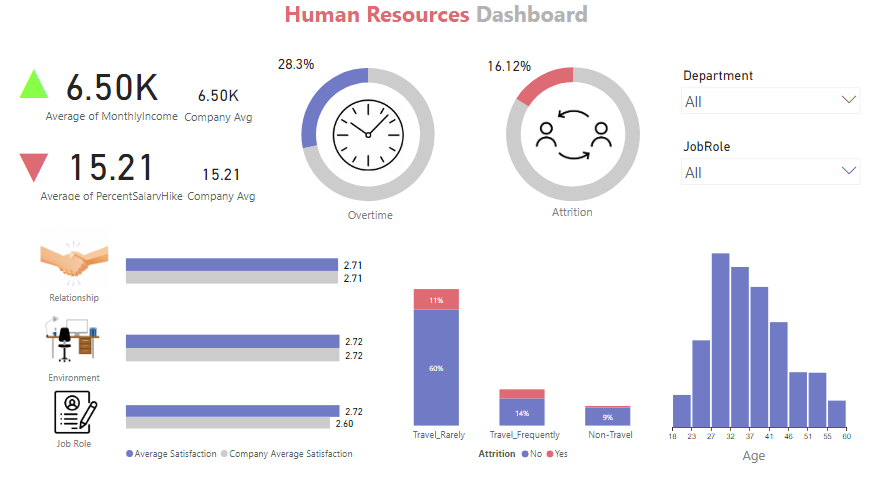

The dashboard page shown, as its layout file describes it:
{"tool":"powerbi","page":{"name":"Page 1","canvas":[1280,720],"ordinal":0},"visuals":[{"type":"image","box":[59,333.3,112.5,108.2],"z":0,"group":"g1"},{"type":"card","fields":{"Values":["Avg(HR-Employee-Attrition.MonthlyIncome)"]},"box":[30.3,51.9,279.9,173.1],"z":0},{"type":"textbox","box":[30.3,425.8,174.6,44.7],"z":1000,"group":"g1"},{"type":"slicer","fields":{"Values":["HR-Employee-Attrition.Department"]},"box":[985.5,101,279.9,75],"z":1000},{"type":"textbox","box":[30.3,541.2,174.6,44.7],"z":2000,"group":"g1"},{"type":"textbox","box":[30.3,637.9,174.6,44.7],"z":3000,"group":"g1"},{"type":"clusteredBarChart","title":"Average Satisfaction vs Total Company Satisfaction","fields":{"Y":["Avg(HR-Employee-Attrition.RelationshipSatisfaction)","HR-Employee-Attrition.Company Avg relationship"]},"box":[184.8,332.6,354.4,127.7],"z":3000},{"type":"donutChart","fields":{"Category":["HR-Employee-Attrition.OverTime"],"Y":["Sum(HR-Employee-Attrition.EmployeeCount)"]},"box":[343.4,67.8,396.8,271.3],"z":4000},{"type":"image","box":[68.8,456.9,88,86.6],"z":4000,"group":"g1"},{"type":"image","box":[82.2,541.2,72.1,127],"z":5000,"group":"g1"},{"type":"clusteredBarChart","fields":{"Y":["Avg(HR-Employee-Attrition.EnvironmentSatisfaction)","HR-Employee-Attrition.Company Avg Enviroment"]},"box":[184.8,441.8,354.4,134.4],"z":5000},{"type":"columnChart","fields":{"Category":["HR-Employee-Attrition.BusinessTravel"],"Y":["Sum(HR-Employee-Attrition.EmployeeCount)"],"Series":["HR-Employee-Attrition.Attrition"]},"box":[554.1,388.1,431.4,297.2],"z":6000},{"type":"slicer","fields":{"Values":["HR-Employee-Attrition.JobRole"]},"box":[985.5,204.9,279.9,75],"z":7000},{"type":"Histogram1445664487616","fields":{"Frequency":["Sum(HR-Employee-Attrition.EmployeeCount)"],"Values":["HR-Employee-Attrition.Age"]},"box":[936.4,360.7,329,307.3],"z":8000},{"type":"card","fields":{"Values":["HR-Employee-Attrition.Company Avg"]},"box":[243.8,103.9,163,103.9],"z":9000},{"type":"image","box":[473.3,147.2,135.6,112.5],"z":10000},{"type":"card","fields":{"Values":["HR-Employee-Attrition.Measure"]},"box":[248.2,219.3,163,103.9],"z":11000},{"type":"textbox","box":[1018.7,650.7,164.5,34.6],"z":12000},{"type":"card","fields":{"Values":["HR-Employee-Attrition.Measure 2"]},"box":[640.6,28.9,210.7,150.1],"z":13000},{"type":"card","fields":{"Values":["HR-Employee-Attrition.Salary%"]},"box":[331.9,26,210.7,150.1],"z":14000},{"type":"card","fields":{"Values":["HR-Employee-Attrition.Arrow"]},"box":[20.2,82.2,73.6,83.7],"z":15000},{"type":"card","fields":{"Values":["HR-Employee-Attrition.Arrow2"]},"box":[20.2,204.9,73.6,83.7],"z":16000},{"type":"group","id":"g1","title":"Group 1","box":[30.3,333.3,174.6,349.3],"z":17000},{"type":"textbox","box":[349.2,0,582.9,60.6],"z":18000},{"type":"image","box":[751.7,128.4,174.6,150.1],"z":19000},{"type":"donutChart","fields":{"Y":["Sum(HR-Employee-Attrition.EmployeeCount)"],"Category":["HR-Employee-Attrition.Attrition"]},"box":[640.6,66.4,396.8,272.7],"z":20000},{"type":"textbox","box":[457.4,304.4,174.6,44.7],"z":21000},{"type":"textbox","box":[750.3,300.1,174.6,44.7],"z":22000},{"type":"clusteredBarChart","fields":{"Y":["Avg(HR-Employee-Attrition.EnvironmentSatisfaction)","HR-Employee-Attrition.Measure"]},"box":[184.8,562.7,354.4,122.6],"z":23000},{"type":"card","fields":{"Values":["Avg(HR-Employee-Attrition.PercentSalaryHike)"]},"box":[20.2,203.4,300.1,101],"z":23500}]}

Visuals, with their boxes in screenshot pixels (x1, y1, x2, y2), scaled from the page's 1280x720 canvas onto the 877x483 screenshot:
image: 40:224:118:296
card - Avg(HR-Employee-Attrition.MonthlyIncome): 21:35:213:151
textbox: 21:286:140:316
slicer - HR-Employee-Attrition.Department: 675:68:867:118
textbox: 21:363:140:393
textbox: 21:428:140:458
"Average Satisfaction vs Total Company Satisfaction" clusteredBarChart: 127:223:369:309
donutChart - HR-Employee-Attrition.OverTime x Sum(HR-Employee-Attrition.EmployeeCount): 235:45:507:227
image: 47:307:107:365
image: 56:363:106:448
clusteredBarChart - Avg(HR-Employee-Attrition.EnvironmentSatisfaction) x HR-Employee-Attrition.Company Avg Enviroment: 127:296:369:387
columnChart - HR-Employee-Attrition.BusinessTravel x Sum(HR-Employee-Attrition.EmployeeCount): 380:260:675:460
slicer - HR-Employee-Attrition.JobRole: 675:137:867:188
Histogram1445664487616 - Sum(HR-Employee-Attrition.EmployeeCount) x HR-Employee-Attrition.Age: 642:242:867:448
card - HR-Employee-Attrition.Company Avg: 167:70:279:139
image: 324:99:417:174
card - HR-Employee-Attrition.Measure: 170:147:282:217
textbox: 698:437:811:460
card - HR-Employee-Attrition.Measure 2: 439:19:583:120
card - HR-Employee-Attrition.Salary%: 227:17:372:118
card - HR-Employee-Attrition.Arrow: 14:55:64:111
card - HR-Employee-Attrition.Arrow2: 14:137:64:194
"Group 1" group: 21:224:140:458
textbox: 239:0:639:41
image: 515:86:635:187
donutChart - Sum(HR-Employee-Attrition.EmployeeCount) x HR-Employee-Attrition.Attrition: 439:45:711:227
textbox: 313:204:433:234
textbox: 514:201:634:231
clusteredBarChart - Avg(HR-Employee-Attrition.EnvironmentSatisfaction) x HR-Employee-Attrition.Measure: 127:377:369:460
card - Avg(HR-Employee-Attrition.PercentSalaryHike): 14:136:219:204
